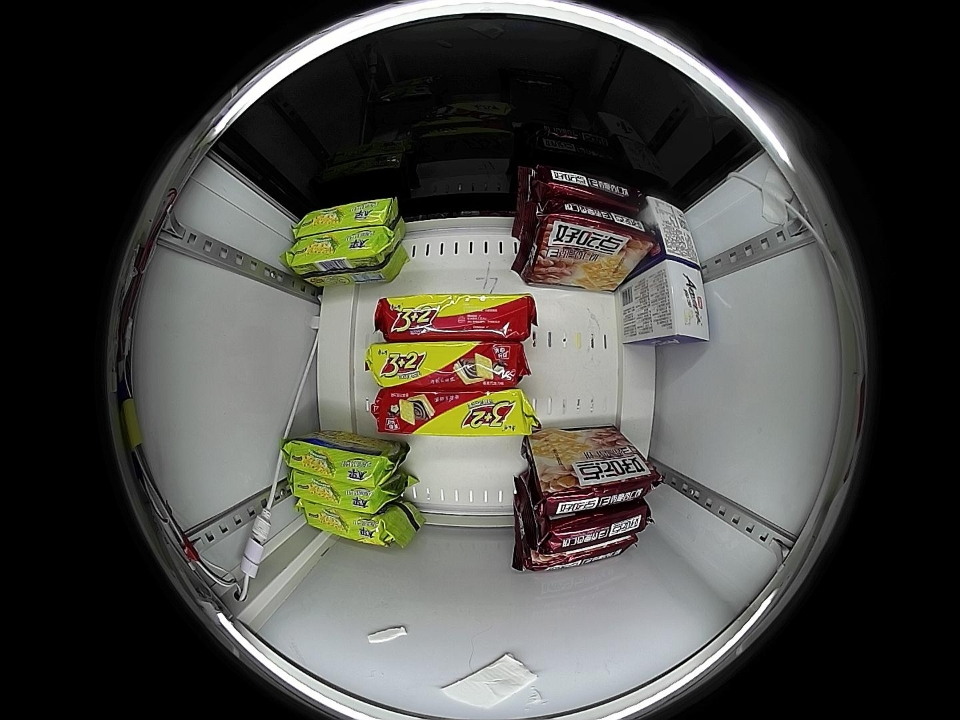3jia2: (376, 292, 535, 341), (375, 388, 532, 437), (368, 341, 523, 389)
haochidian: (534, 458, 661, 518), (524, 200, 652, 259), (518, 164, 644, 210), (534, 504, 654, 548), (517, 537, 644, 572)
meiniye: (645, 259, 709, 344), (641, 196, 701, 268)
taipingshuda: (286, 438, 394, 489), (284, 228, 395, 275), (300, 501, 398, 549), (293, 198, 399, 238), (293, 472, 393, 512)
